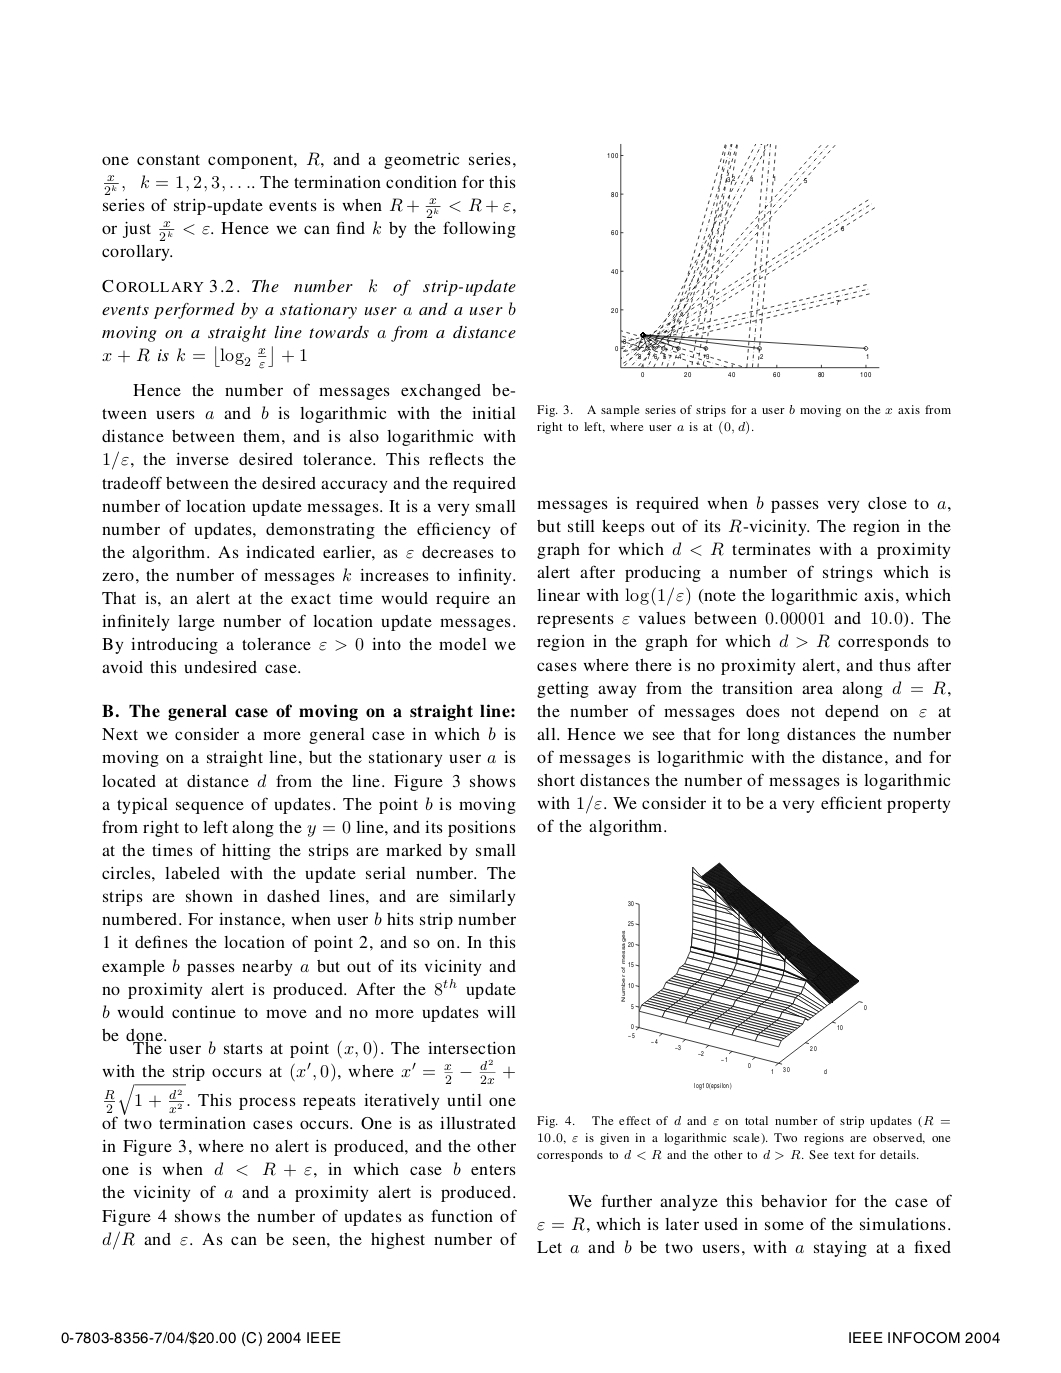figure: (607, 144, 879, 377), (621, 861, 866, 1089)
formula: (103, 345, 306, 369)
